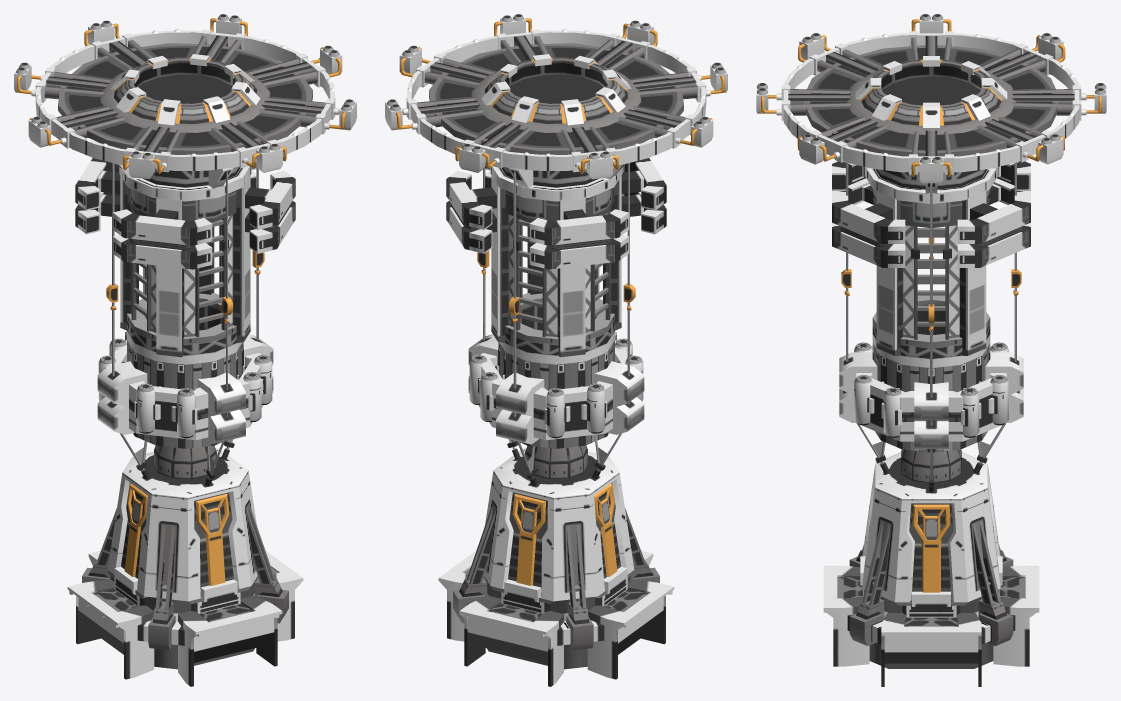
File: logistic-station.glb
3 views of the same model, side by side, from view 1: azimuth 30°, elevation 25°; view 2: azimuth 150°, elevation 25°; view 3: azimuth 270°, elevation 25° (orthographic).
Parts seen in each view (by area): view 1: logistic-station-1, logistic-station-2-2, logistic-station-2-1, logistic-station-2-4, logistic-station-2-3; view 2: logistic-station-1, logistic-station-2-4, logistic-station-2-2, logistic-station-2-3; view 3: logistic-station-1, logistic-station-2-3, logistic-station-2-1, logistic-station-2-4, logistic-station-2-2.
Part boxes in pixels (bbox=[...]): logistic-station-1: bbox=[14, 14, 356, 478]; logistic-station-2-2: bbox=[67, 163, 218, 679]; logistic-station-2-1: bbox=[178, 168, 295, 686]; logistic-station-2-4: bbox=[75, 158, 157, 582]; logistic-station-2-3: bbox=[215, 162, 303, 641]; logistic-station-1: bbox=[385, 14, 727, 478]; logistic-station-2-4: bbox=[459, 168, 629, 686]; logistic-station-2-2: bbox=[584, 158, 674, 679]; logistic-station-2-3: bbox=[438, 166, 540, 660]; logistic-station-1: bbox=[756, 14, 1106, 482]; logistic-station-2-3: bbox=[881, 183, 1030, 686]; logistic-station-2-1: bbox=[823, 162, 931, 668]; logistic-station-2-4: bbox=[961, 161, 1039, 666]; logistic-station-2-2: bbox=[832, 161, 934, 567].
Bounding box in the file's own units: 14.62 × 25.98 × 14.62.
2 materials, 1 textured.
